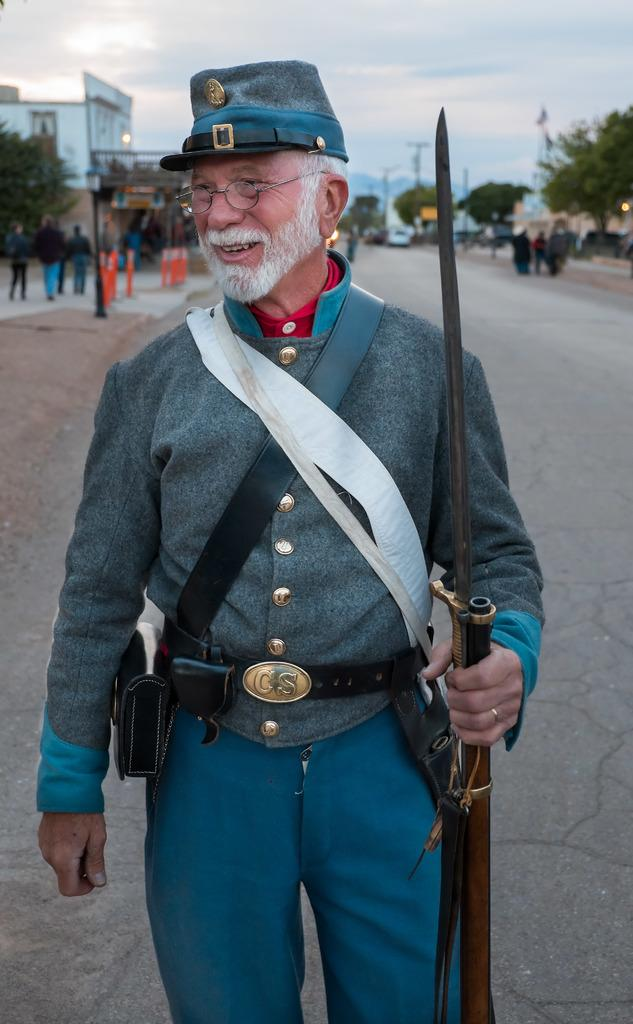Hat: (161, 57, 349, 172)
